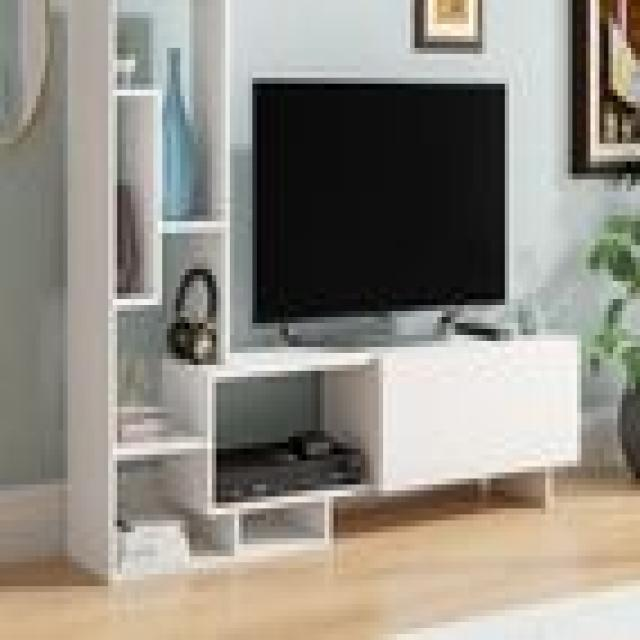others: (239, 66, 536, 341)
